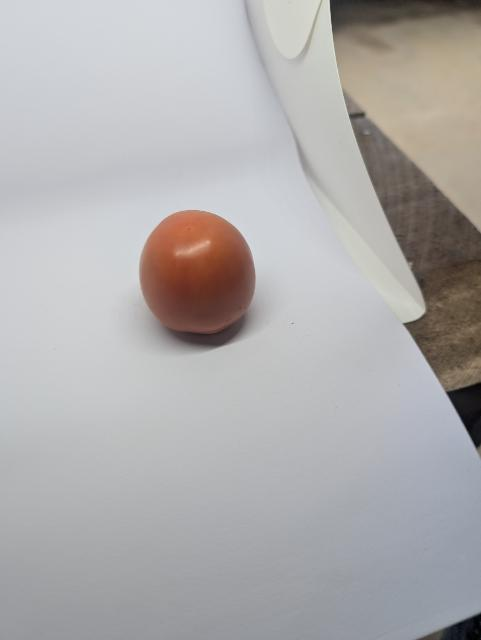red: (127, 198, 285, 363)
